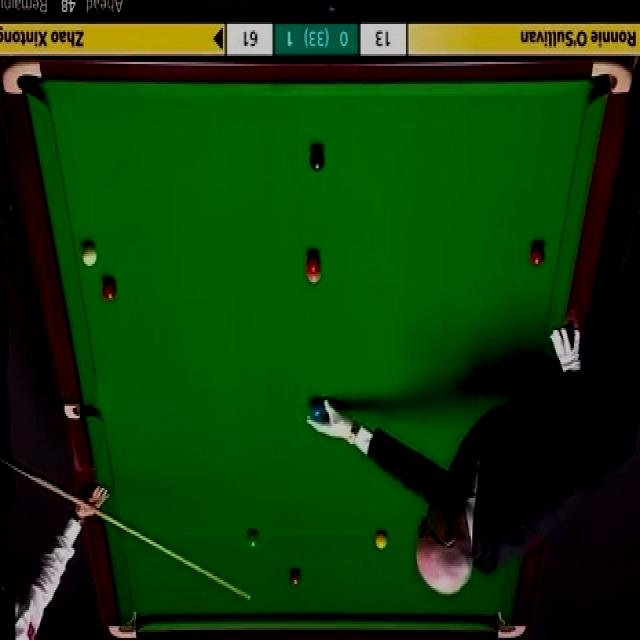pocket: (3, 59, 42, 94), (590, 63, 631, 93), (108, 612, 139, 637), (496, 612, 525, 638), (65, 400, 98, 420)
